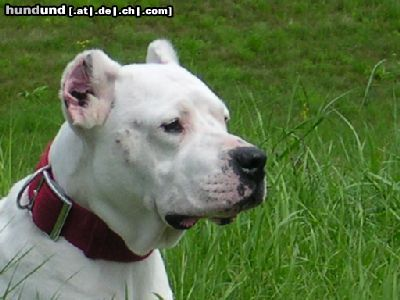dogo_argentino: (0, 37, 267, 300)
